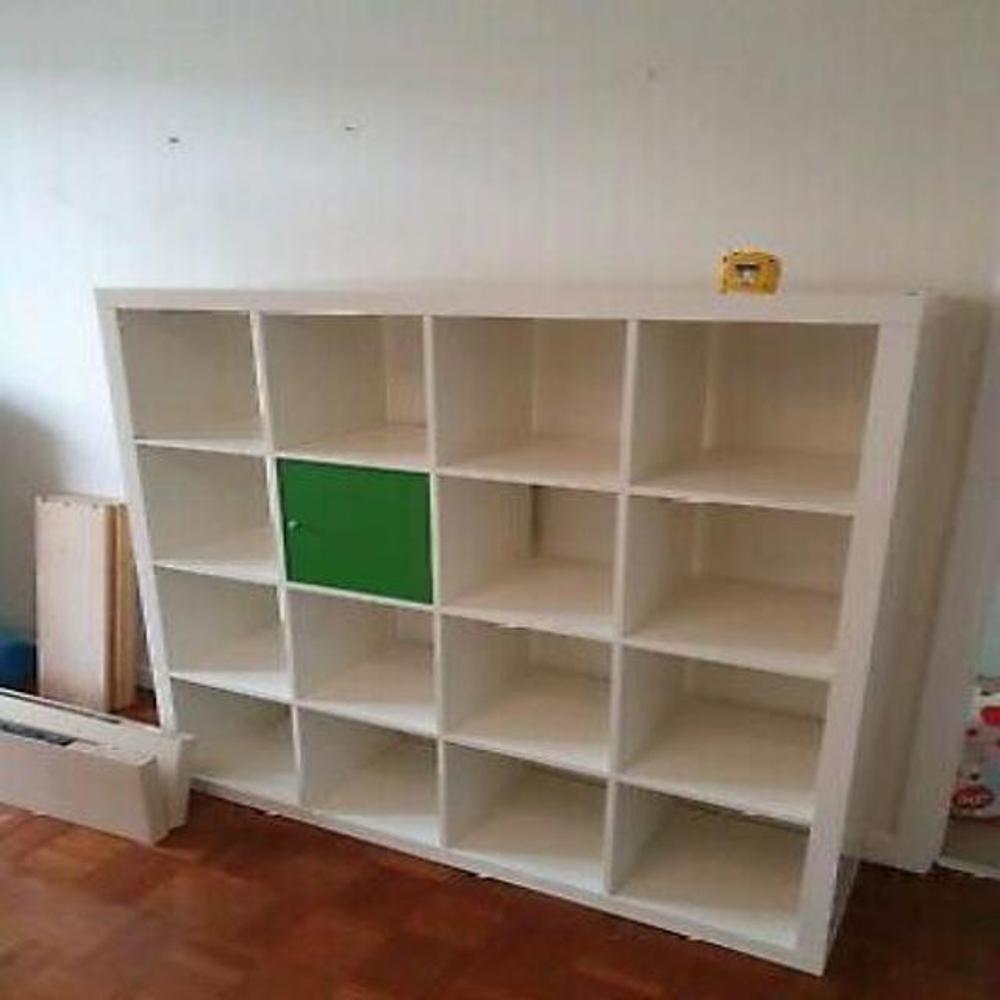lamp: (91, 277, 957, 985)
